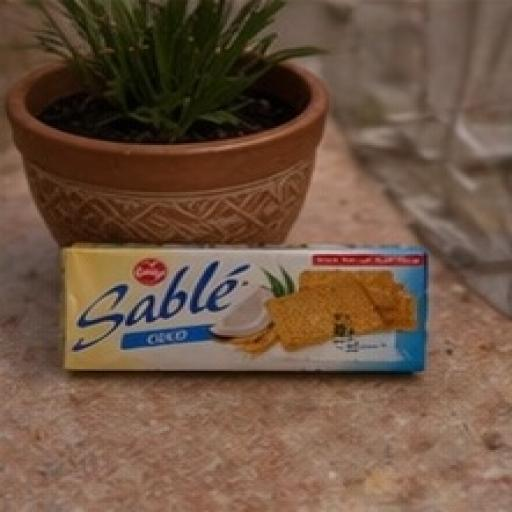sable: (28, 206, 510, 434)
